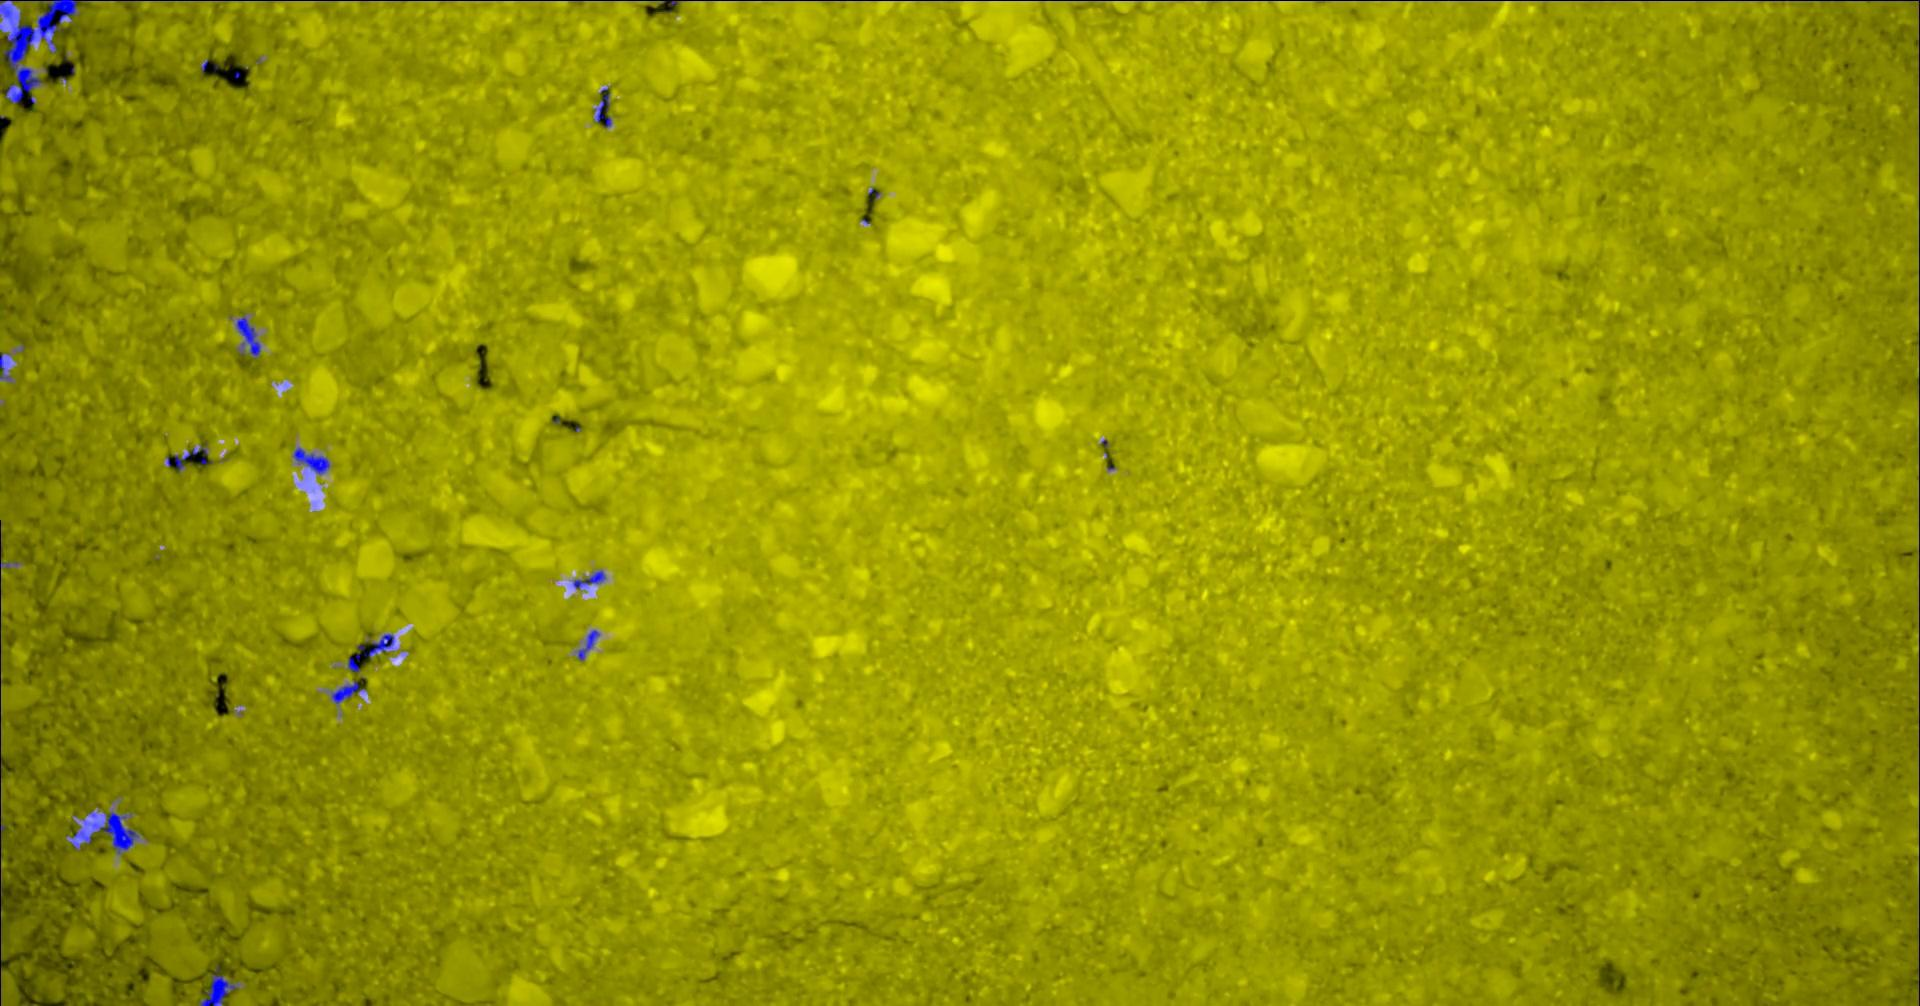ant: (91, 810, 138, 854), (347, 633, 392, 672), (198, 967, 237, 1005), (166, 445, 212, 471), (236, 316, 260, 354), (293, 447, 329, 473), (331, 680, 364, 702), (577, 629, 599, 661), (593, 86, 611, 127), (571, 570, 604, 588), (70, 829, 91, 848), (0, 353, 10, 379)
